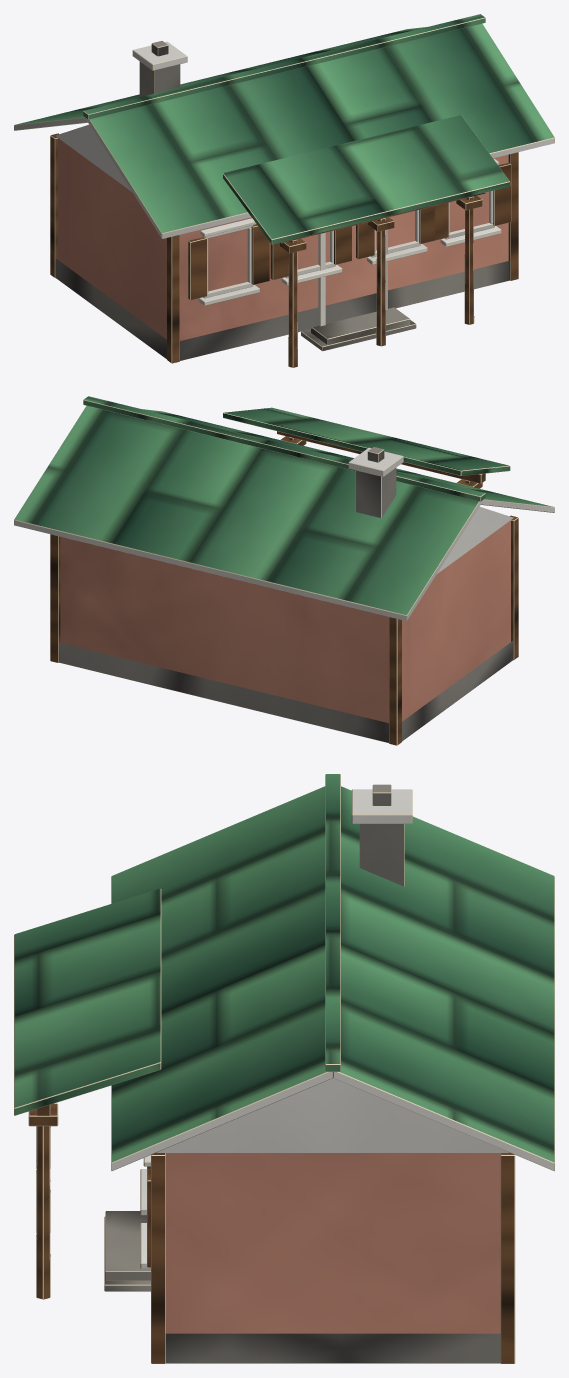
File: Env_House_Farmhouse_C.fbx
The picture shows the model from 3 angles, top to bottom: view 1: azimuth 30°, elevation 25°; view 2: azimuth 150°, elevation 25°; view 3: azimuth 270°, elevation 25°; orthographic projection. The views are drawn at different scales.
Visible parts, largest first — view 1: Env_House_Farmhouse_C; view 2: Env_House_Farmhouse_C; view 3: Env_House_Farmhouse_C.
Part boxes in pixels (x1,y1,x2,y2): Env_House_Farmhouse_C: (14,14,554,367); Env_House_Farmhouse_C: (14,396,554,745); Env_House_Farmhouse_C: (14,774,554,1363).
Size of the model in its own units: 700 by 551 by 432.
